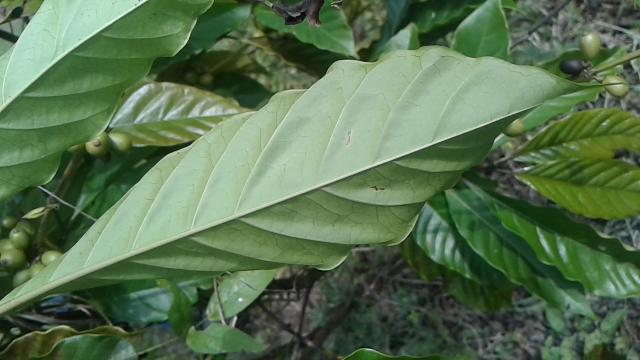healthy: (4, 46, 592, 314)
